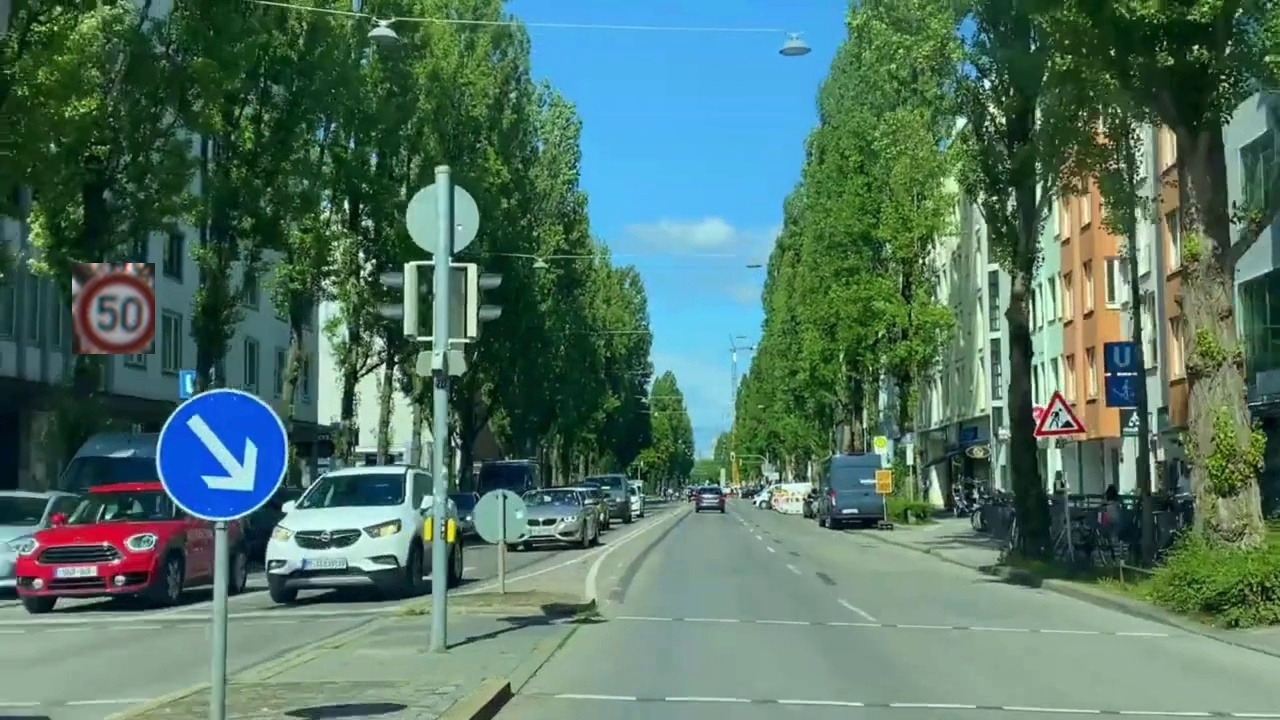Speed 50: (72, 263, 155, 354)
